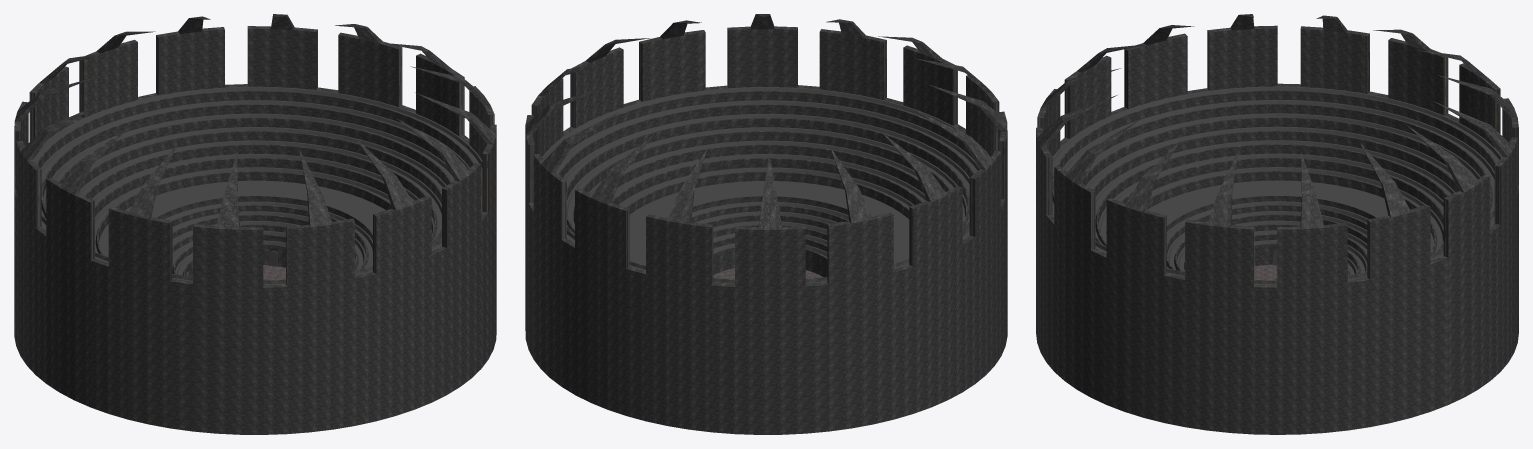
Rendered from lucifersColosseum.glb.
The picture shows the model from 3 angles, left to right: view 1: azimuth 30°, elevation 25°; view 2: azimuth 150°, elevation 25°; view 3: azimuth 270°, elevation 25°; orthographic projection.
Visible parts, largest first — view 1: Colosseum; view 2: Colosseum; view 3: Colosseum.
Boxes of the visible parts, bbox=[...] form: Colosseum: bbox=[14, 14, 496, 434]; Colosseum: bbox=[525, 14, 1007, 434]; Colosseum: bbox=[1036, 14, 1518, 434].
Size of what is drawn, in the model's own units: 190 by 108 by 190.
5 materials, 3 textured.
